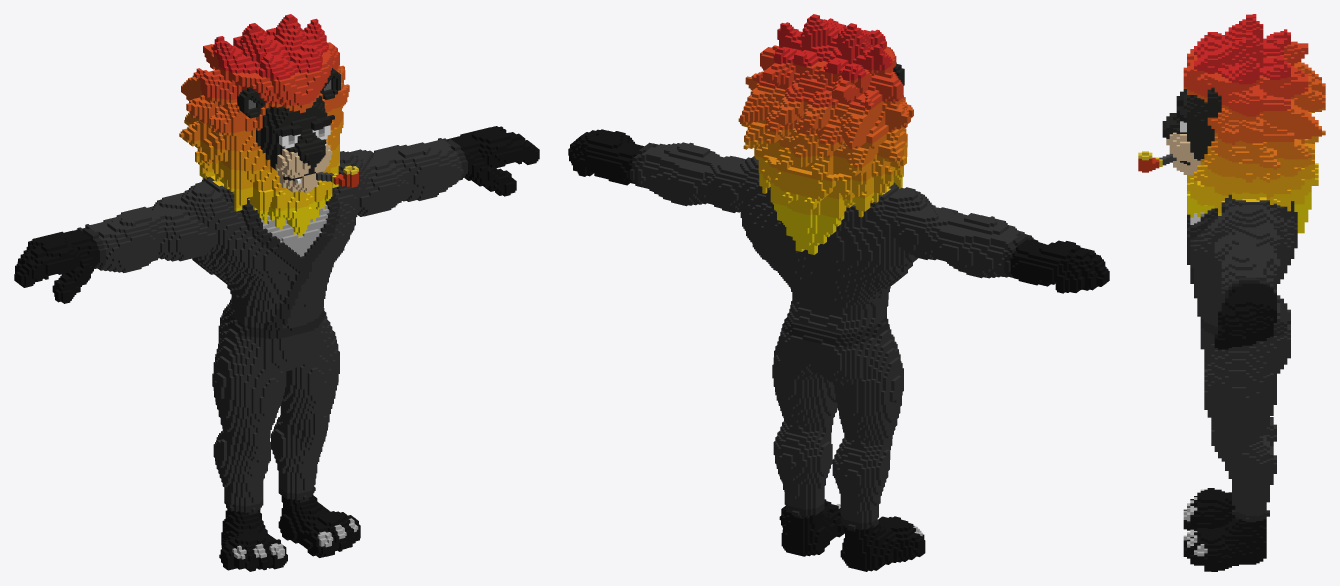
3 renders of one model, left to right at view 1: azimuth 30°, elevation 25°; view 2: azimuth 150°, elevation 25°; view 3: azimuth 270°, elevation 25°, orthographic. The views are drawn at different scales.
Parts seen in each view (by area): view 1: pipe; view 2: pipe; view 3: pipe.
Boxes of the visible parts, bbox=[...] form: pipe: bbox=[14, 14, 539, 571]; pipe: bbox=[568, 14, 1109, 571]; pipe: bbox=[1138, 14, 1325, 571].
Size of the model in its own units: 17.2 by 16.5 by 5.4.
5 materials, 5 textured.
